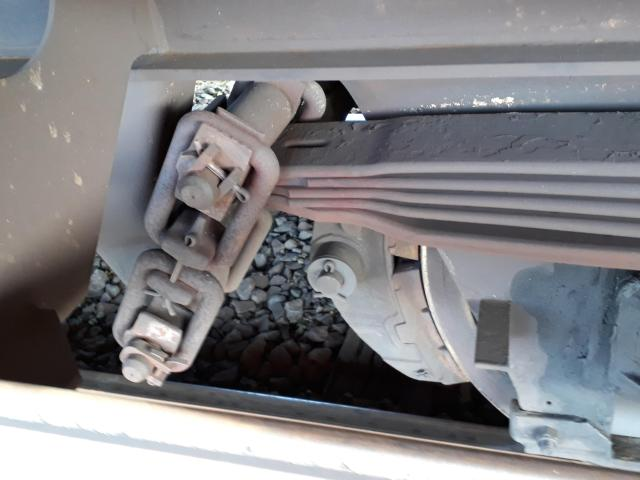blattfederww: (292, 117, 640, 253)
